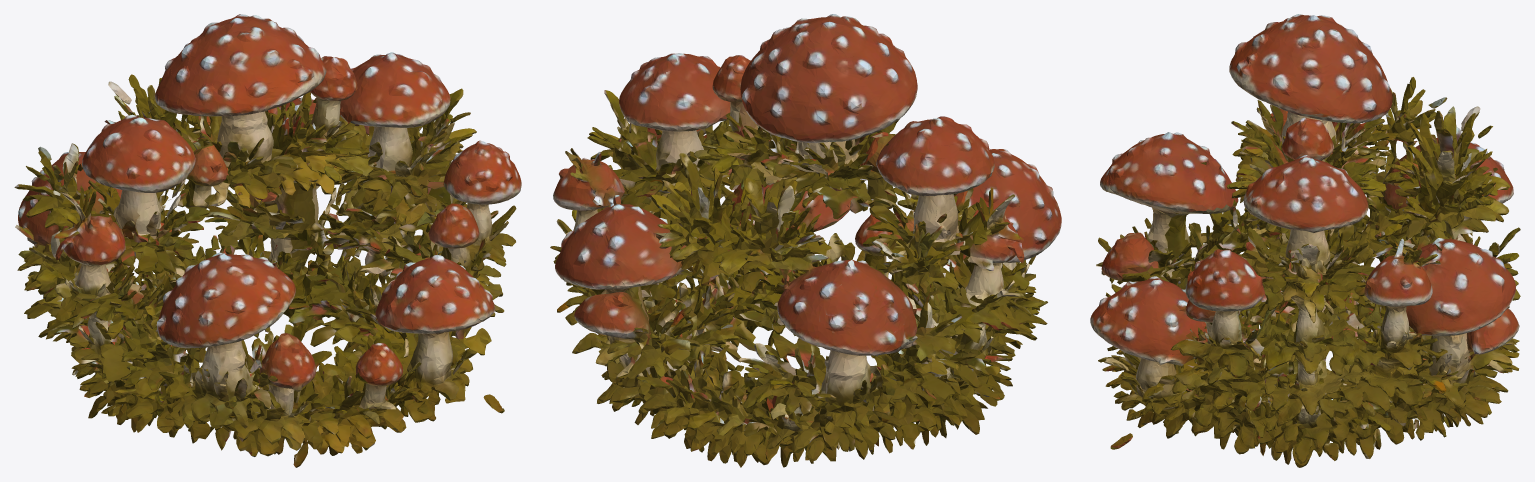
File: prop-mushrooms.glb
The picture shows the model from 3 angles, left to right: view 1: azimuth 30°, elevation 25°; view 2: azimuth 150°, elevation 25°; view 3: azimuth 270°, elevation 25°; orthographic projection. The views are drawn at different scales.
Parts seen in each view (by area): view 1: geometry_0; view 2: geometry_0; view 3: geometry_0.
Boxes of the visible parts, x1=… form: geometry_0: x1=14, y1=14, x2=521, y2=467; geometry_0: x1=550, y1=14, x2=1061, y2=467; geometry_0: x1=1090, y1=14, x2=1520, y2=467.
Bounding box in the file's own units: 2.01 × 1.77 × 1.79.
Materials: 1 (1 with a texture image).
